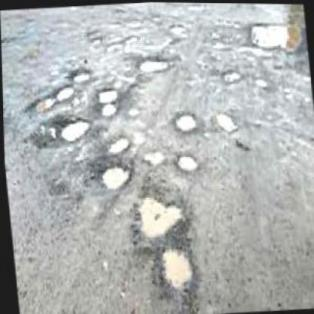Hueco: (133, 188, 186, 238), (248, 17, 303, 51), (157, 243, 195, 290), (97, 159, 132, 190), (59, 114, 91, 140), (24, 92, 57, 116), (136, 54, 173, 73), (105, 132, 131, 155), (215, 108, 237, 133), (173, 110, 197, 132), (175, 153, 198, 171), (70, 64, 92, 82), (142, 148, 165, 165), (95, 87, 119, 102), (56, 82, 75, 100), (221, 67, 242, 82), (97, 101, 117, 116)
